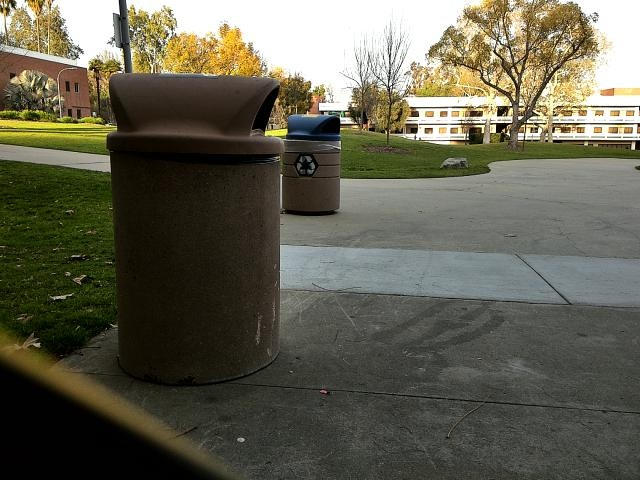trashcan: (98, 66, 282, 379), (281, 107, 344, 228)
